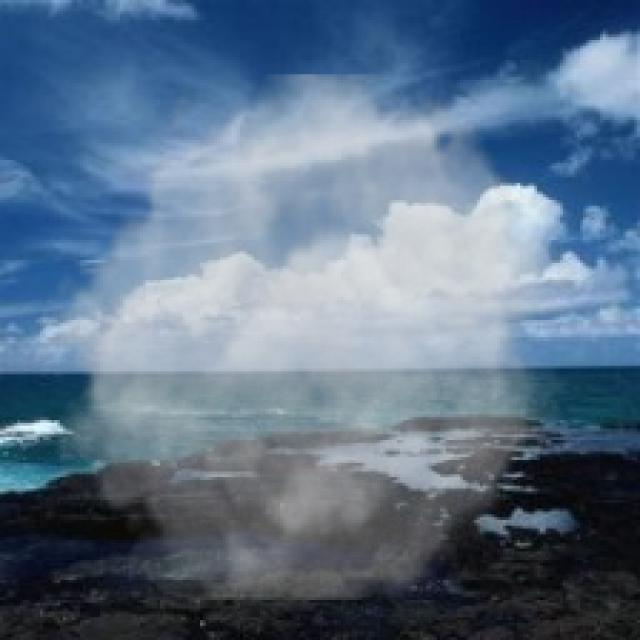Smoke: (37, 74, 574, 600)
